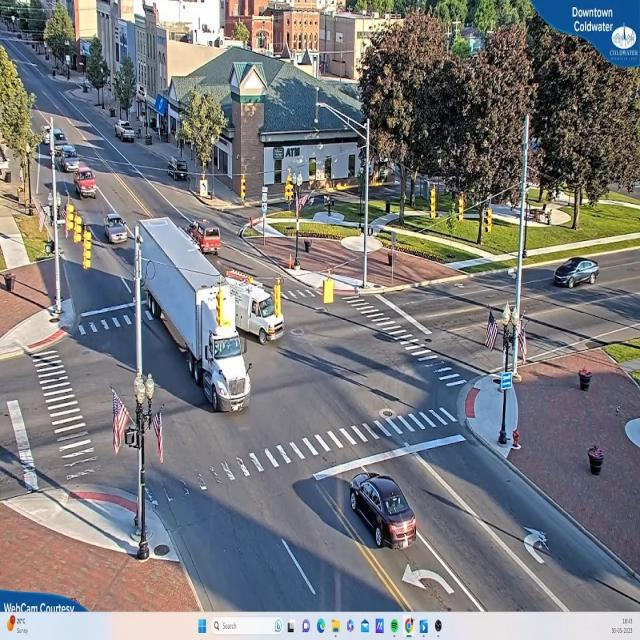car: (348, 474, 418, 551), (554, 258, 598, 288), (106, 214, 131, 244), (76, 172, 98, 200), (117, 122, 137, 144), (60, 157, 80, 173)
truck: (138, 220, 254, 413), (232, 262, 284, 344)
